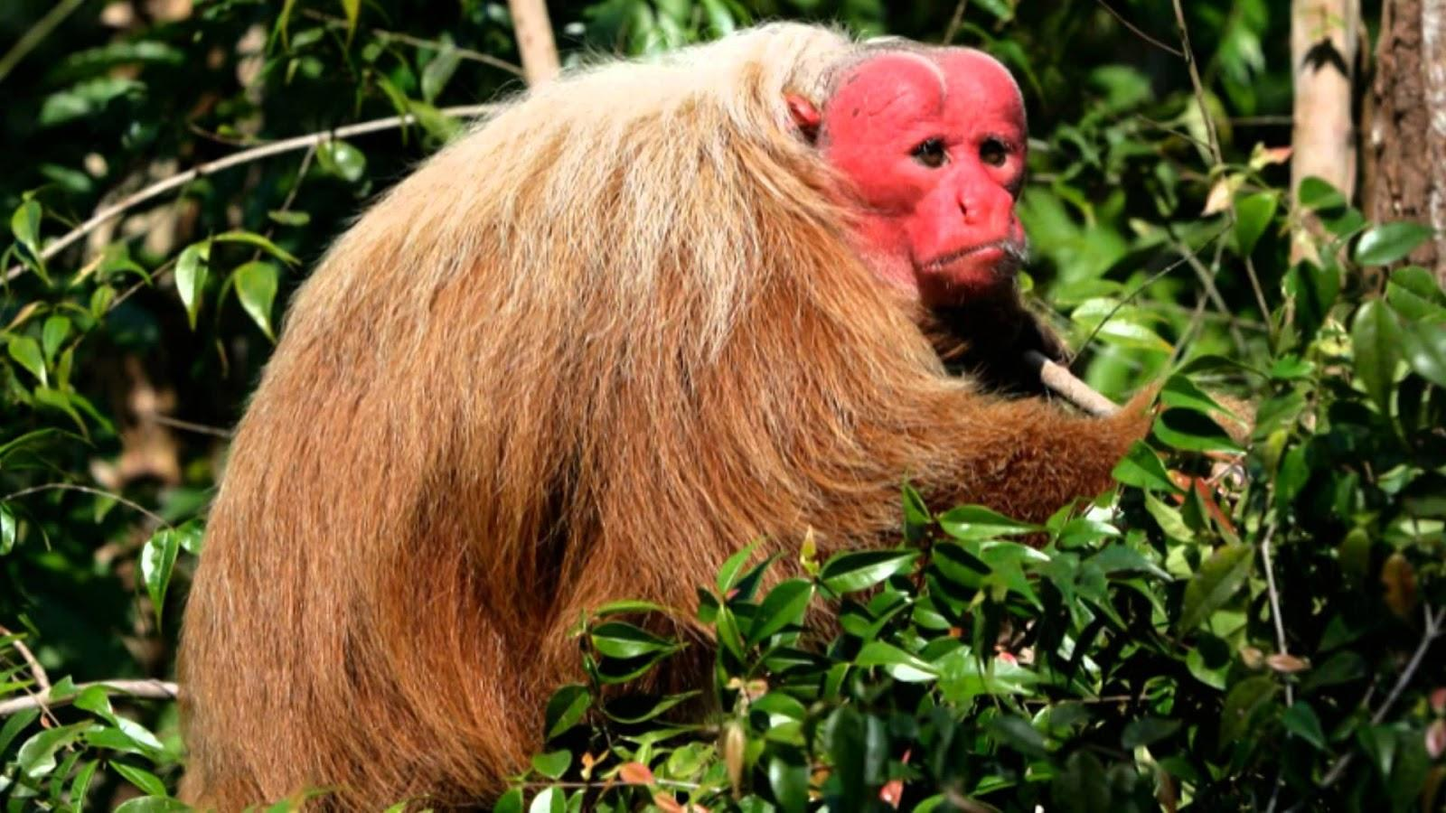monkey: (382, 25, 1147, 612)
